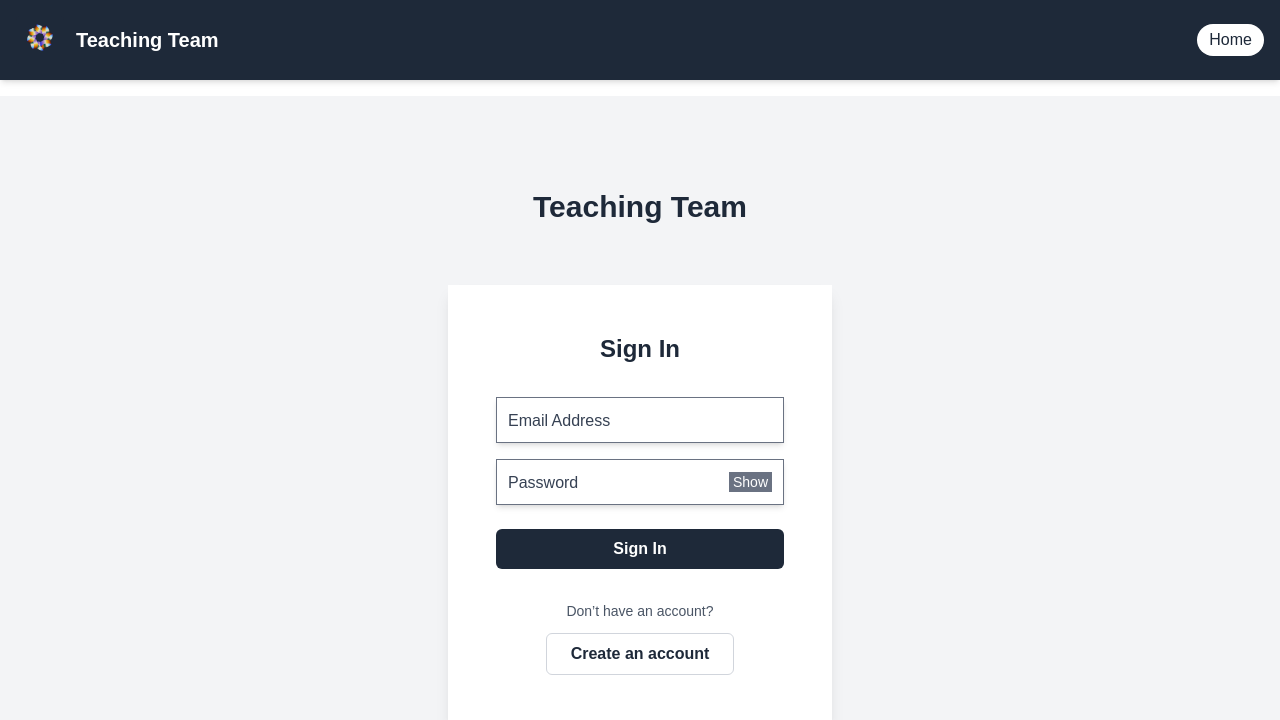
it: blocks login without CAPTCHA
The width and height of the screenshot is (1280, 720).
In the field with placeholder "Email Address": (640, 420) [496,397,784,443], type "tutor@rmit.edu.au"
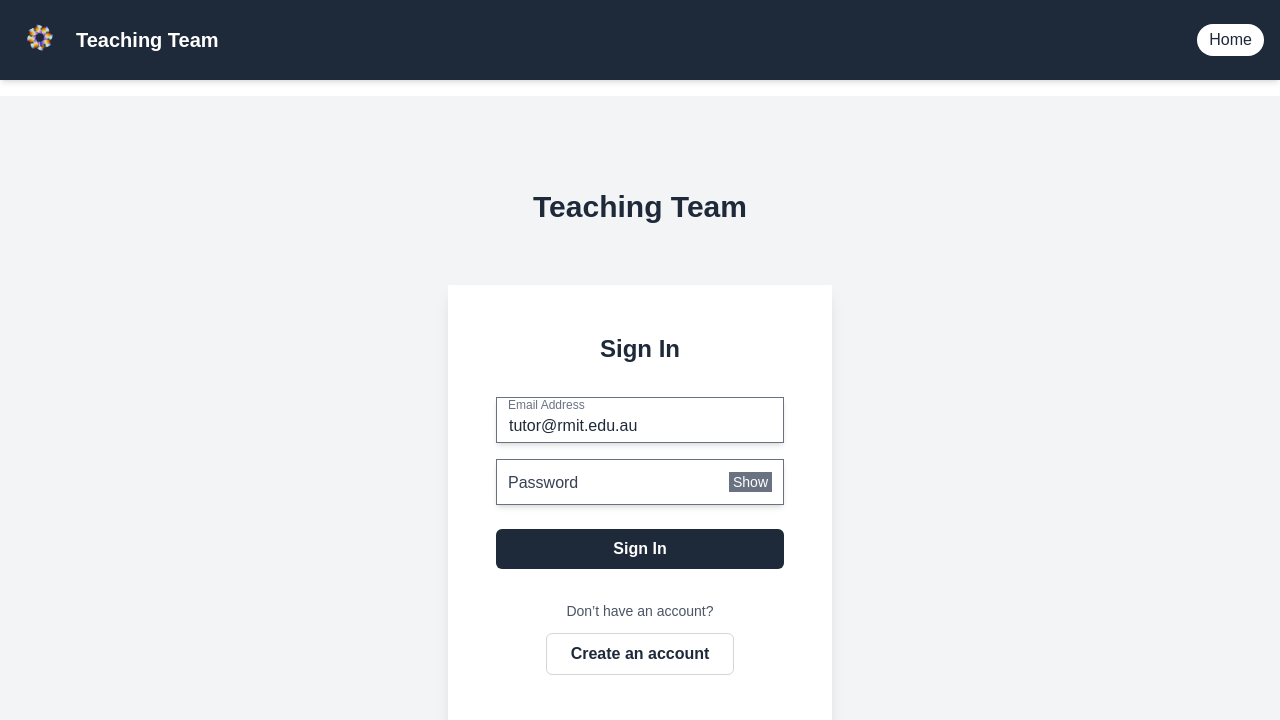
In the password field with placeholder "Password": (640, 482) [496,459,784,505], type "ValidPass1"
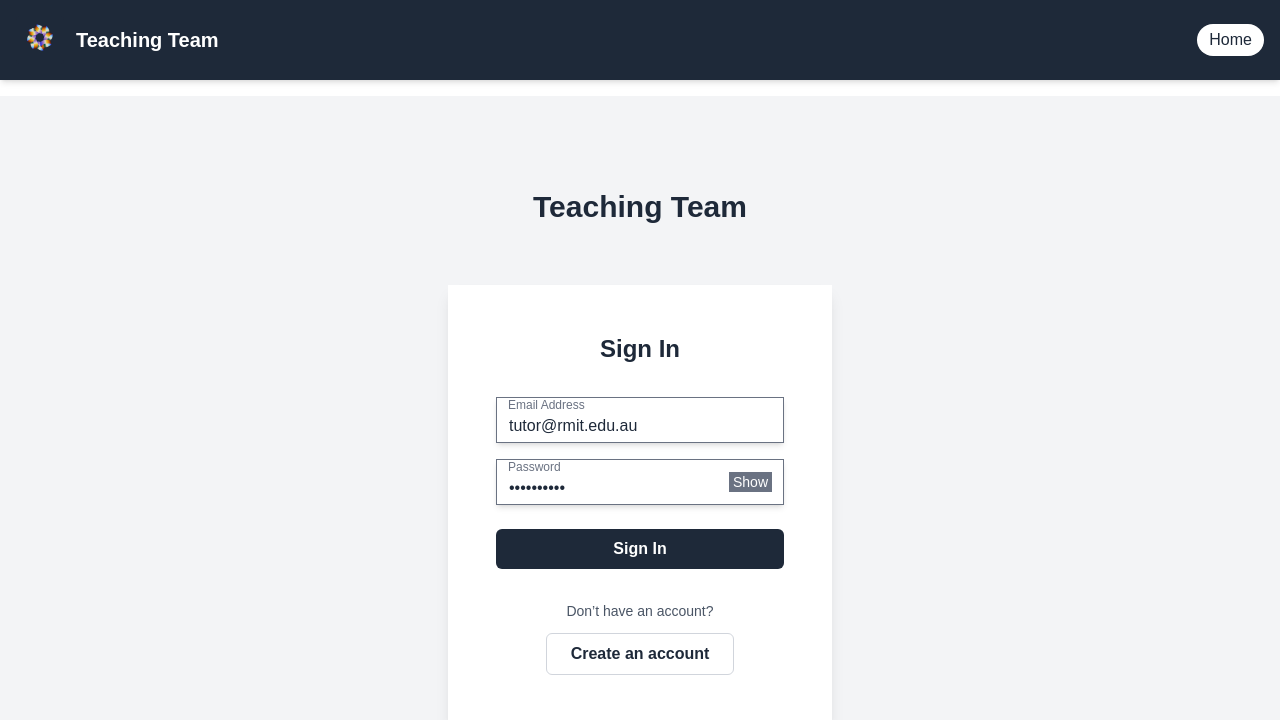
Click the button "Sign In": (640, 549) [496,529,784,569]
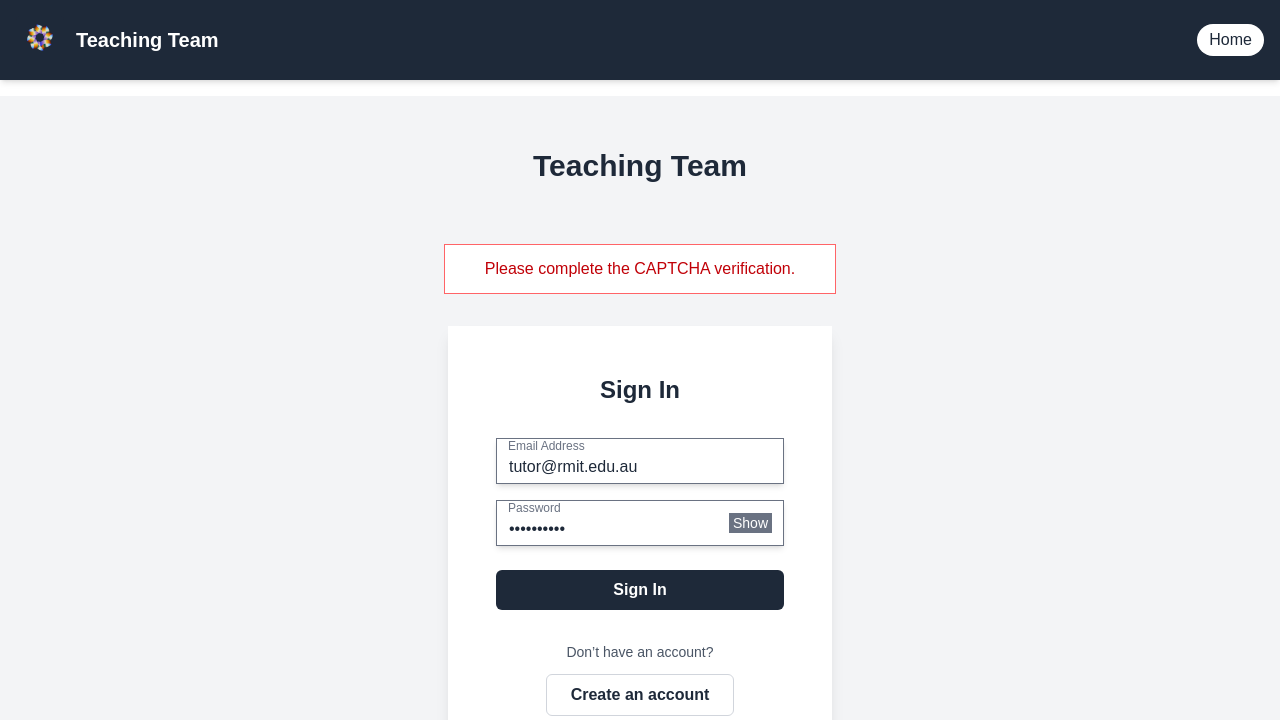
Now the text "Please complete the CAPTCHA verification." is shown, box [444,244,836,294]
